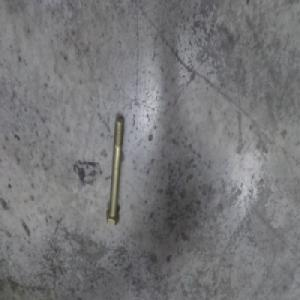Bolt: (106, 117, 126, 232)
